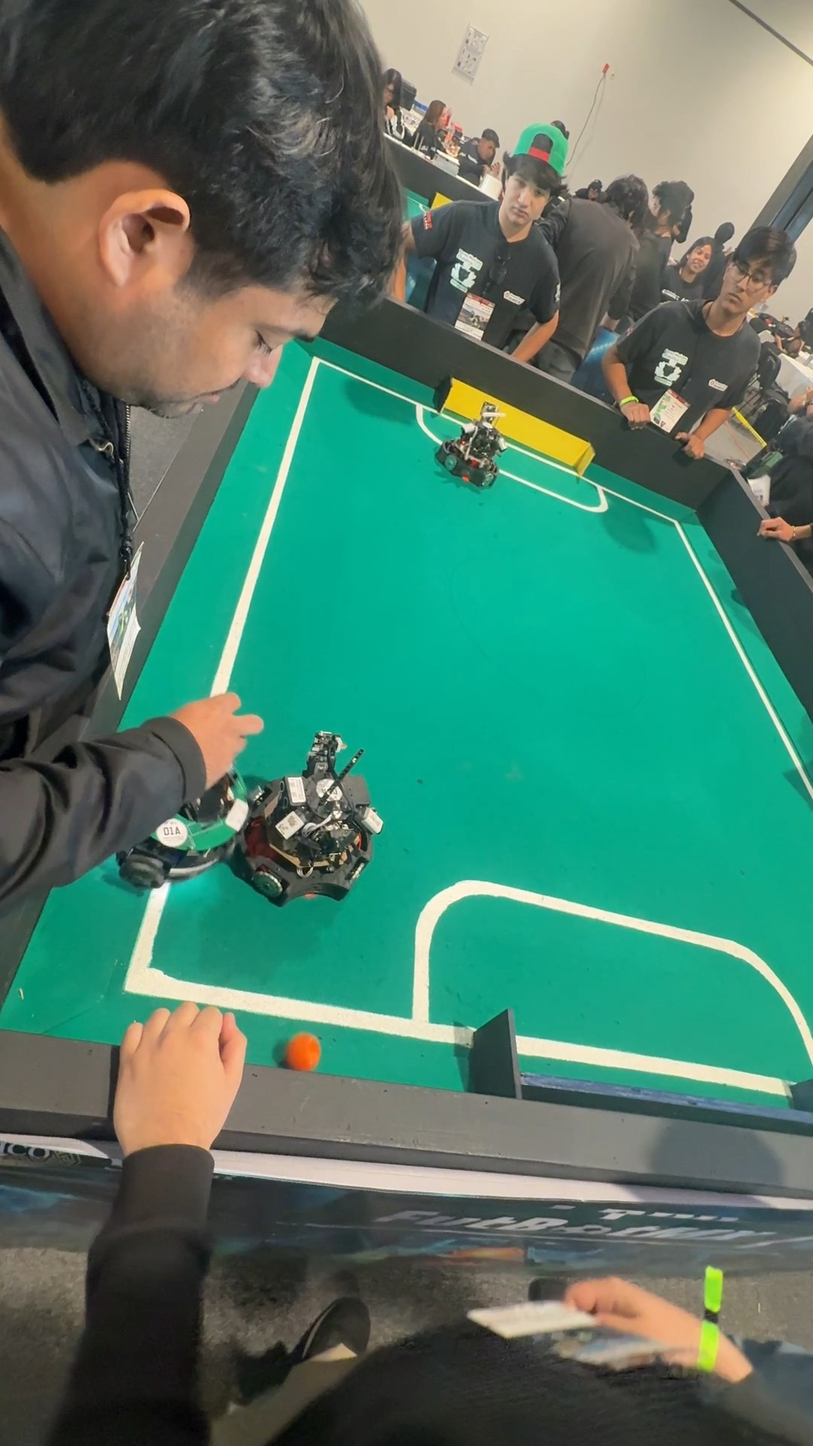Robot: (239, 721, 387, 913), (438, 393, 504, 490)
pelota: (274, 1039, 326, 1080)
